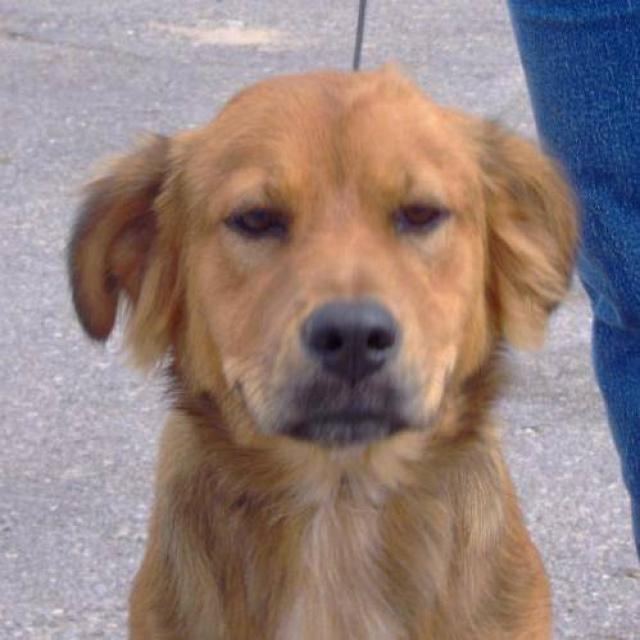dog: (64, 60, 581, 639)
